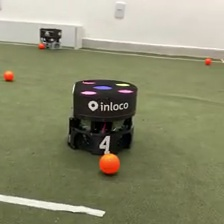ball: (98, 152, 121, 177), (2, 69, 14, 81), (204, 56, 211, 65), (38, 42, 45, 49)
goal: (1, 18, 83, 50)
robot: (65, 77, 140, 157), (37, 26, 62, 49)
